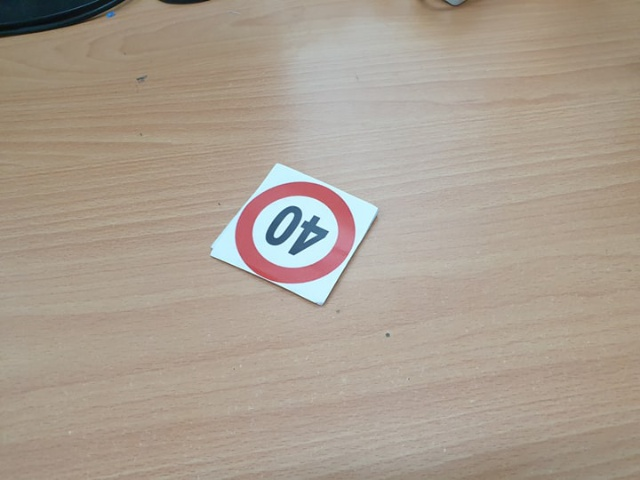Limit 40: (235, 184, 359, 283)
